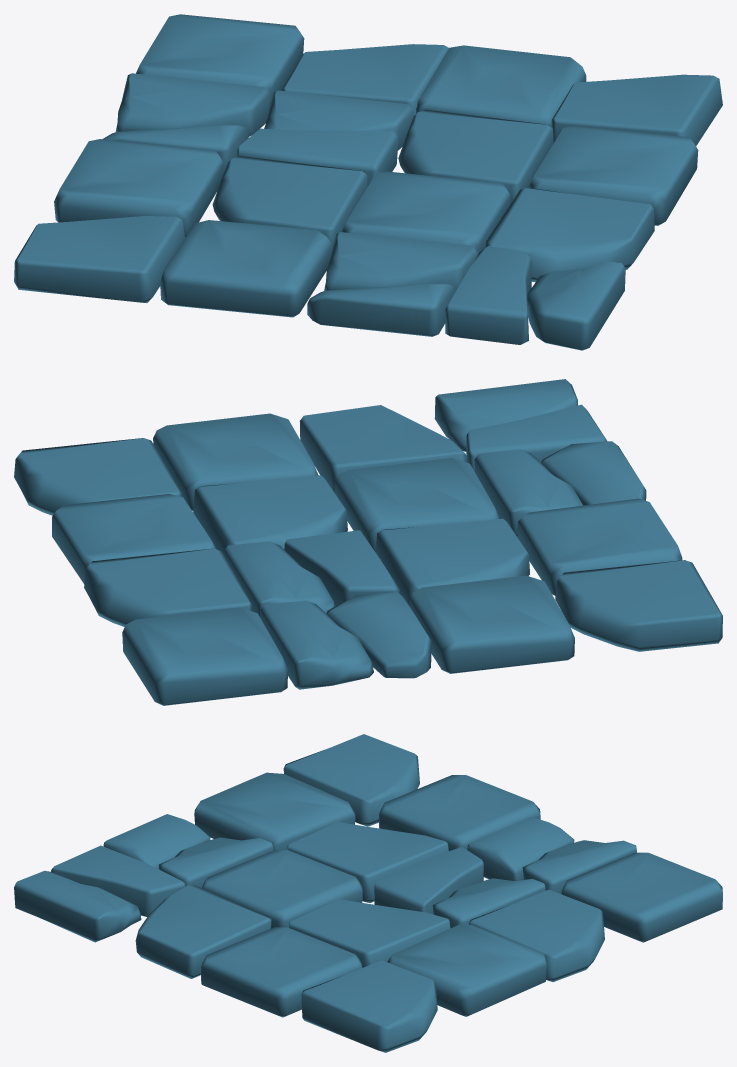
Rendered from Pavement_Grp_01_Lod0.fbx.
3 views of the same model, one above another, from view 1: azimuth 30°, elevation 25°; view 2: azimuth 150°, elevation 25°; view 3: azimuth 270°, elevation 25° (orthographic). The views are drawn at different scales.
Parts seen in each view (by area): view 1: Pavement_Grp_01_Lod0; view 2: Pavement_Grp_01_Lod0; view 3: Pavement_Grp_01_Lod0.
Boxes of the visible parts, <box> form: Pavement_Grp_01_Lod0: <box>14,14,722,350</box>; Pavement_Grp_01_Lod0: <box>14,379,722,705</box>; Pavement_Grp_01_Lod0: <box>14,734,722,1052</box>.
Size of the model in its own units: 292 by 14.2 by 296.
